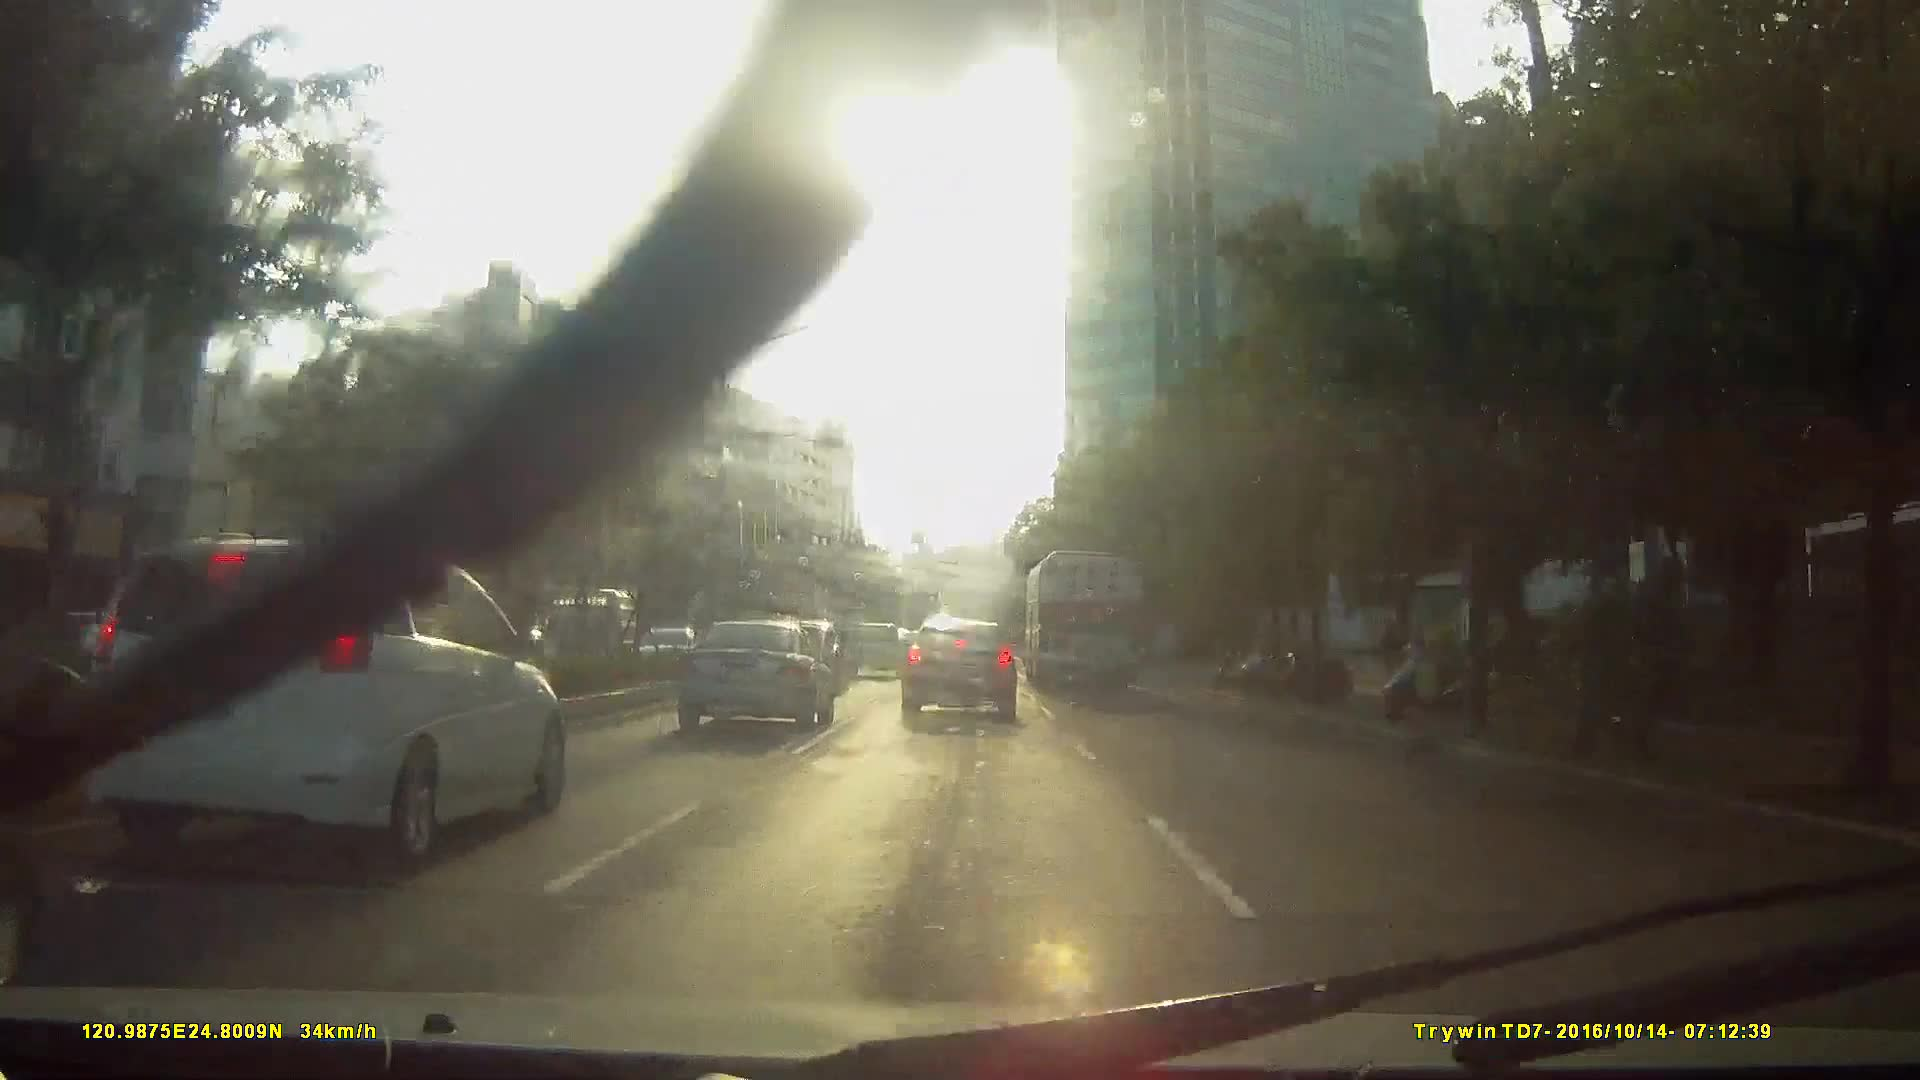vehicle: (73, 518, 571, 873), (251, 556, 684, 868), (665, 615, 832, 735), (1021, 539, 1145, 691), (895, 617, 1021, 719), (527, 583, 626, 669), (847, 620, 903, 680)
